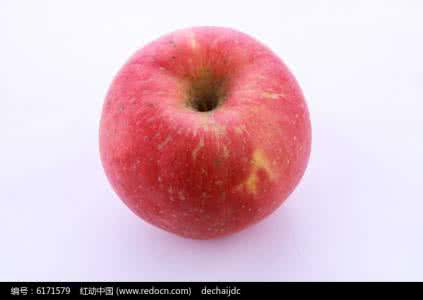apple: (90, 21, 310, 235)
